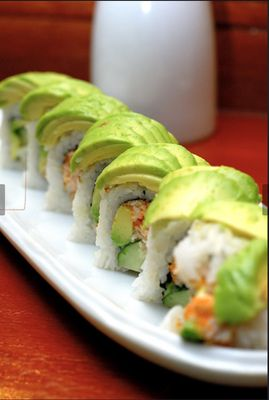pizza: (87, 2, 219, 145)
